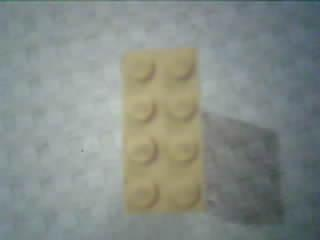lego: (119, 48, 206, 216)
